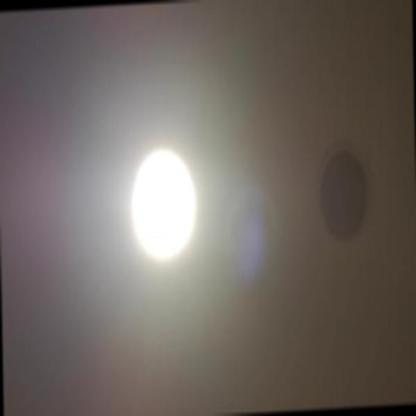light_off: (296, 105, 374, 264)
